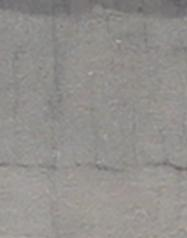fissura: (82, 151, 187, 204)
